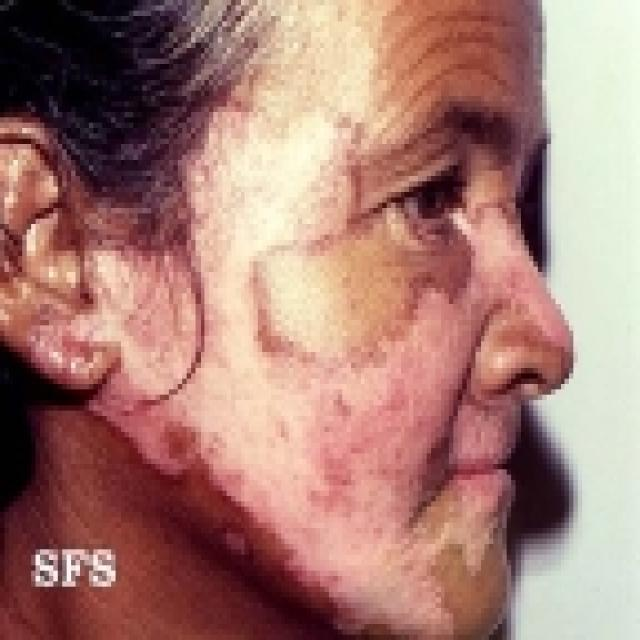lupus: (28, 98, 518, 630)
